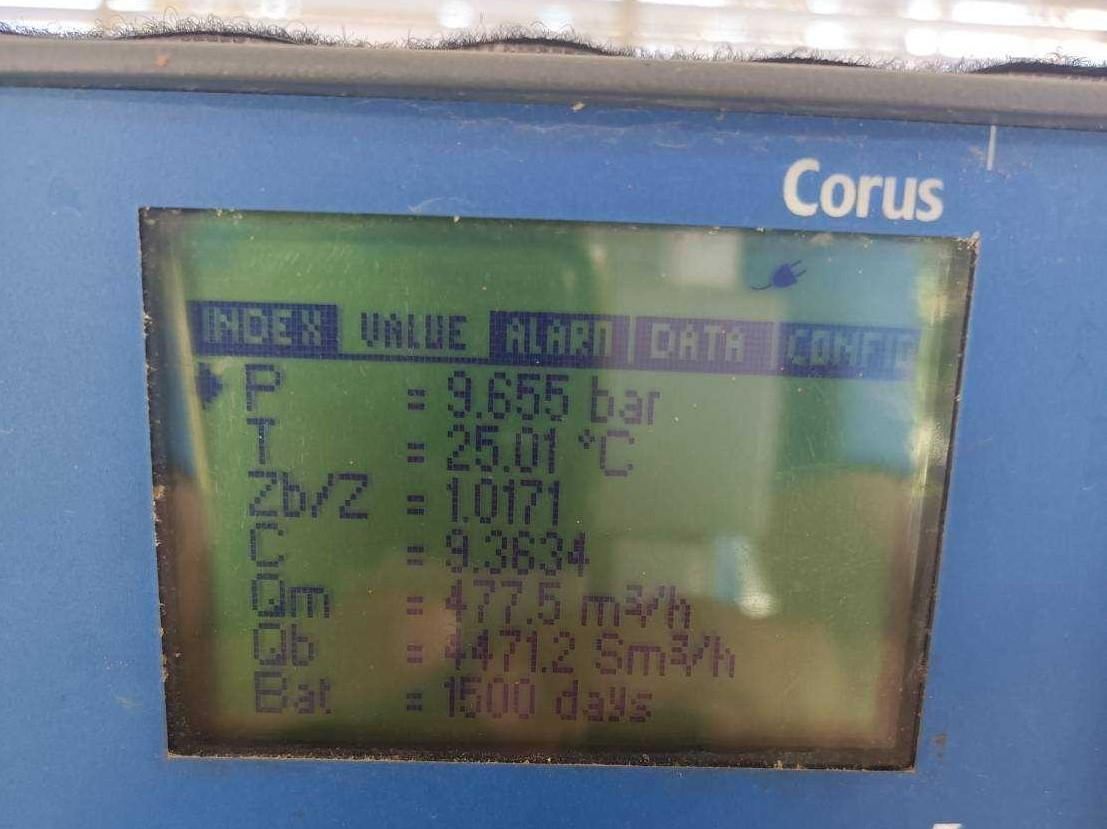digital_screen: (128, 207, 976, 773)
